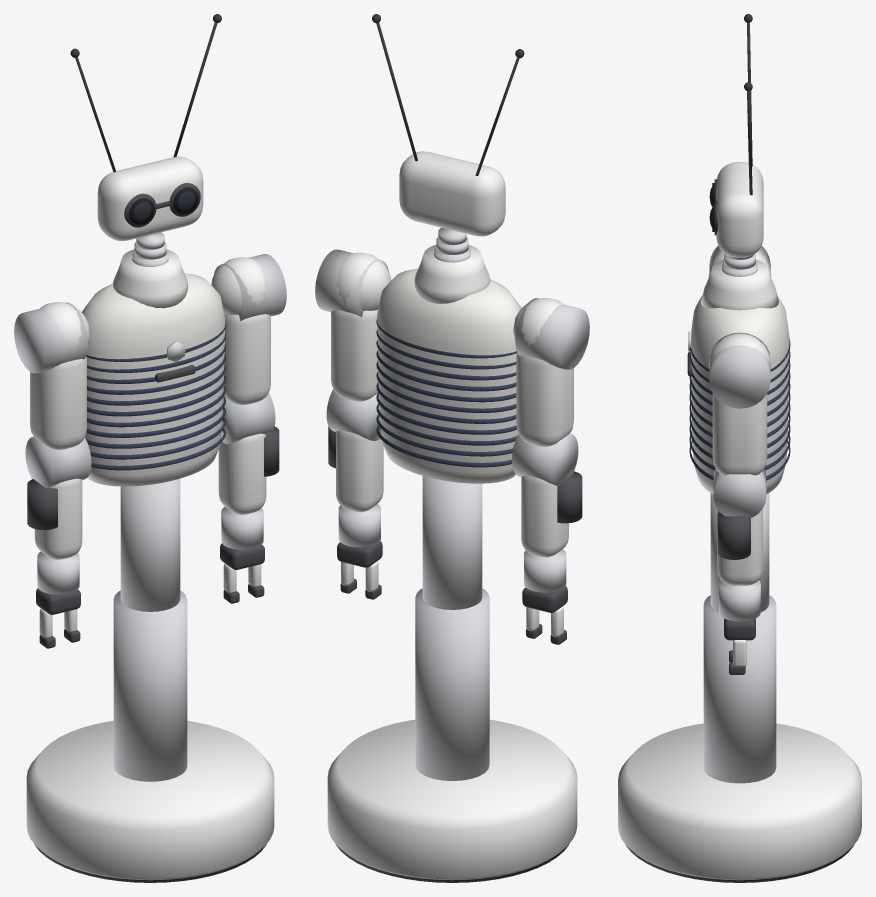
The model's file is reachy2.glb.
3 renders of one model, left to right at view 1: azimuth 30°, elevation 25°; view 2: azimuth 150°, elevation 25°; view 3: azimuth 270°, elevation 25°, orthographic. The views are drawn at different scales.
Visible parts, largest first — view 1: base_drum, base, torso_chest, torso, head_shell, r_arm_upper_arm, l_arm_upper_arm, l_arm_forearm, r_arm_shoulder_barrel, torso_neck, r_arm_forearm, r_arm_elbow_barrel (+11 smaller); view 2: base_drum, base, torso_chest, torso, head_shell, r_arm_upper_arm, l_arm_upper_arm, l_arm_forearm, r_arm_shoulder_barrel, r_arm_forearm, torso_neck, r_arm_elbow_barrel (+10 smaller); view 3: base_drum, base, torso_chest, head_shell, l_arm_upper_arm, l_arm_shoulder_barrel, torso, torso_neck, l_arm_elbow_barrel, l_arm_forearm, l_arm_wrist_barrel, l_arm_forearm_actuator (+3 smaller).
Part boxes in pixels (bbox=[...]): base_drum: bbox=[26, 721, 274, 880]; base: bbox=[113, 478, 187, 781]; torso_chest: bbox=[82, 273, 225, 486]; torso: bbox=[86, 323, 225, 470]; head_shell: bbox=[97, 156, 203, 241]; r_arm_upper_arm: bbox=[30, 356, 86, 449]; l_arm_upper_arm: bbox=[223, 313, 270, 404]; l_arm_forearm: bbox=[218, 433, 266, 514]; r_arm_shoulder_barrel: bbox=[14, 302, 87, 373]; torso_neck: bbox=[113, 249, 188, 308]; r_arm_forearm: bbox=[34, 478, 82, 559]; r_arm_elbow_barrel: bbox=[25, 436, 91, 488]; base_drum: bbox=[327, 719, 577, 880]; base: bbox=[415, 476, 489, 780]; torso_chest: bbox=[377, 268, 521, 483]; torso: bbox=[376, 320, 517, 467]; head_shell: bbox=[399, 151, 505, 236]; r_arm_upper_arm: bbox=[516, 352, 573, 446]; l_arm_upper_arm: bbox=[331, 309, 378, 401]; l_arm_forearm: bbox=[336, 430, 383, 512]; r_arm_shoulder_barrel: bbox=[515, 298, 589, 369]; r_arm_forearm: bbox=[521, 475, 568, 557]; torso_neck: bbox=[414, 245, 490, 303]; r_arm_elbow_barrel: bbox=[512, 433, 578, 486]; base_drum: bbox=[618, 723, 861, 880]; base: bbox=[703, 493, 776, 783]; torso_chest: bbox=[690, 295, 789, 494]; head_shell: bbox=[716, 162, 763, 257]; l_arm_upper_arm: bbox=[712, 394, 767, 475]; l_arm_shoulder_barrel: bbox=[709, 332, 770, 408]; torso: bbox=[689, 339, 790, 480]; torso_neck: bbox=[701, 259, 778, 310]; l_arm_elbow_barrel: bbox=[713, 468, 766, 517]; l_arm_forearm: bbox=[717, 509, 762, 585]; l_arm_wrist_barrel: bbox=[719, 580, 760, 621]; l_arm_forearm_actuator: bbox=[717, 512, 750, 559].
Bounding box in the file's own units: 0.404 × 1.24 × 0.35.
